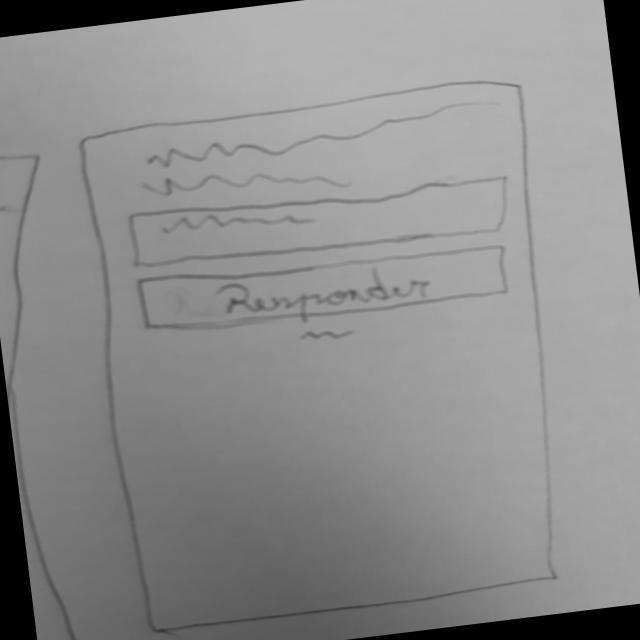button: (126, 235, 516, 345)
container: (70, 72, 584, 639)
input: (126, 166, 521, 280)
text: (286, 322, 369, 349)
textbox: (134, 98, 501, 206)
